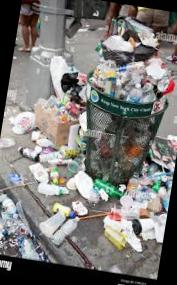trash: (90, 12, 177, 110), (18, 90, 94, 167), (81, 190, 162, 256), (106, 169, 172, 244), (37, 54, 99, 118), (142, 125, 177, 218), (30, 194, 87, 251), (0, 215, 52, 261), (62, 170, 122, 203), (14, 158, 66, 194), (0, 180, 37, 230), (35, 158, 72, 202)
trash_can_overflow: (53, 0, 177, 235)
